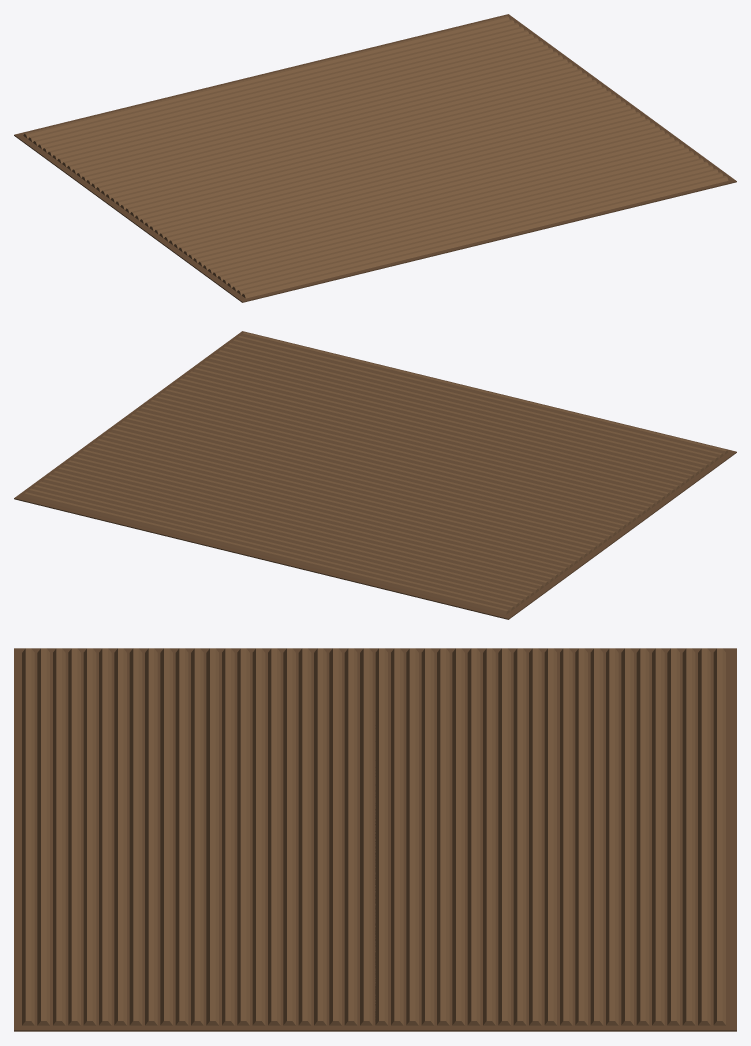
Rendered from Kir_alan_surulmus_2.fbx.
3 renders of one model, top to bottom at view 1: azimuth 30°, elevation 25°; view 2: azimuth 150°, elevation 25°; view 3: azimuth 270°, elevation 25°, orthographic. The views are drawn at different scales.
Visible parts, largest first — view 1: Kir_alan_surulmus_2; view 2: Kir_alan_surulmus_2; view 3: Kir_alan_surulmus_2.
Boxes of the visible parts, <box> form: Kir_alan_surulmus_2: <box>14,14,736,302</box>; Kir_alan_surulmus_2: <box>14,331,736,619</box>; Kir_alan_surulmus_2: <box>14,648,736,1031</box>.
Size of the model in its own units: 50 by 0.38 by 40.
